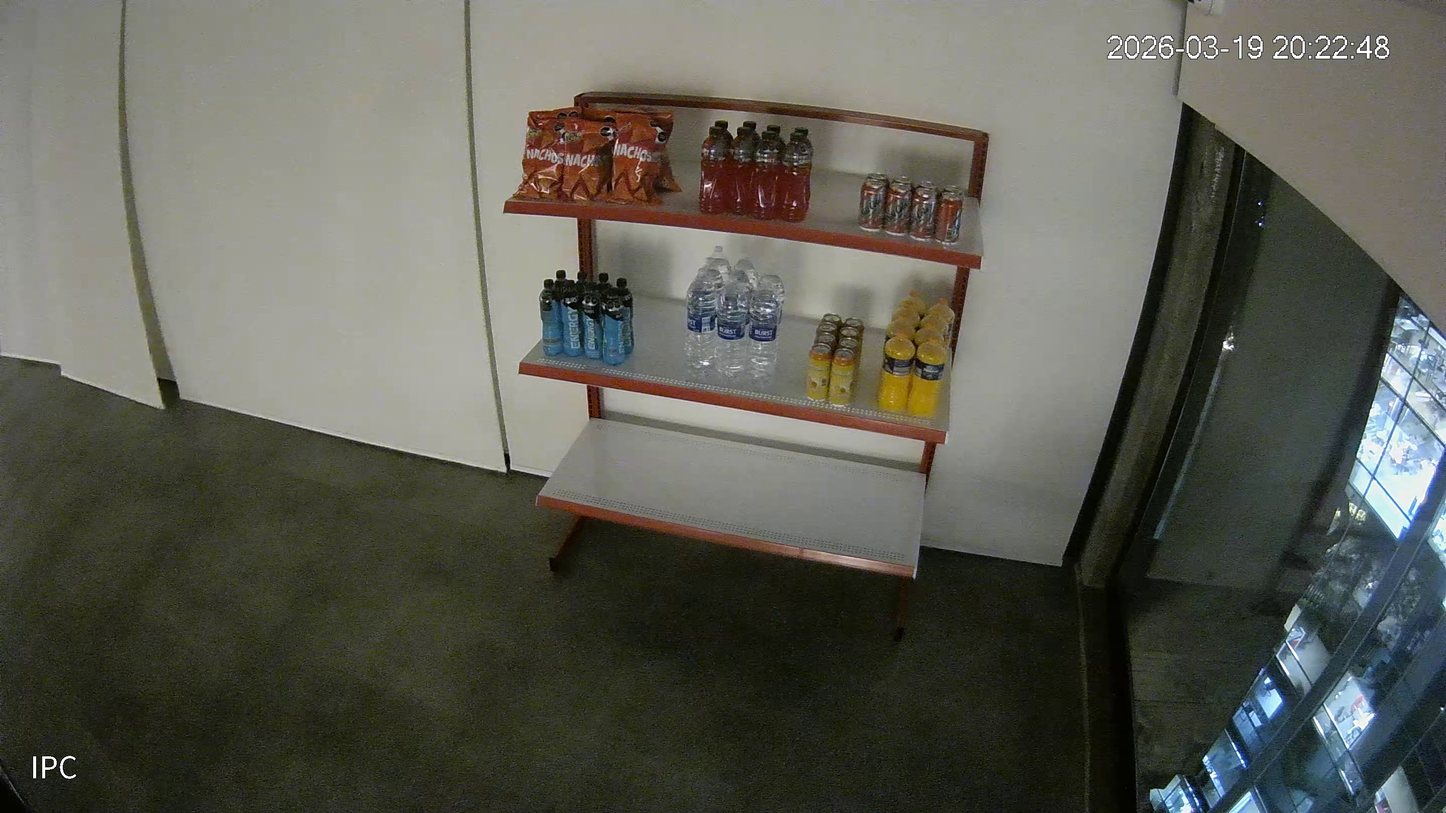agua_burst: (713, 275, 747, 385), (702, 253, 722, 289), (759, 256, 783, 285)
burst_energetica_roja: (698, 126, 735, 214), (748, 130, 781, 220), (714, 120, 734, 140), (743, 120, 760, 140)
burst_energy: (601, 288, 627, 365), (553, 270, 567, 289), (598, 272, 612, 291)
nachos_naturasol: (612, 108, 682, 192), (528, 107, 583, 120), (582, 107, 617, 122)
nebraska_mango: (820, 313, 841, 329), (837, 328, 858, 340), (815, 332, 834, 345)
sisi_cola: (859, 179, 886, 230), (867, 172, 888, 189), (916, 181, 939, 194)
sun_paradise_naranja: (928, 298, 954, 341), (891, 287, 925, 319), (886, 311, 915, 341)
